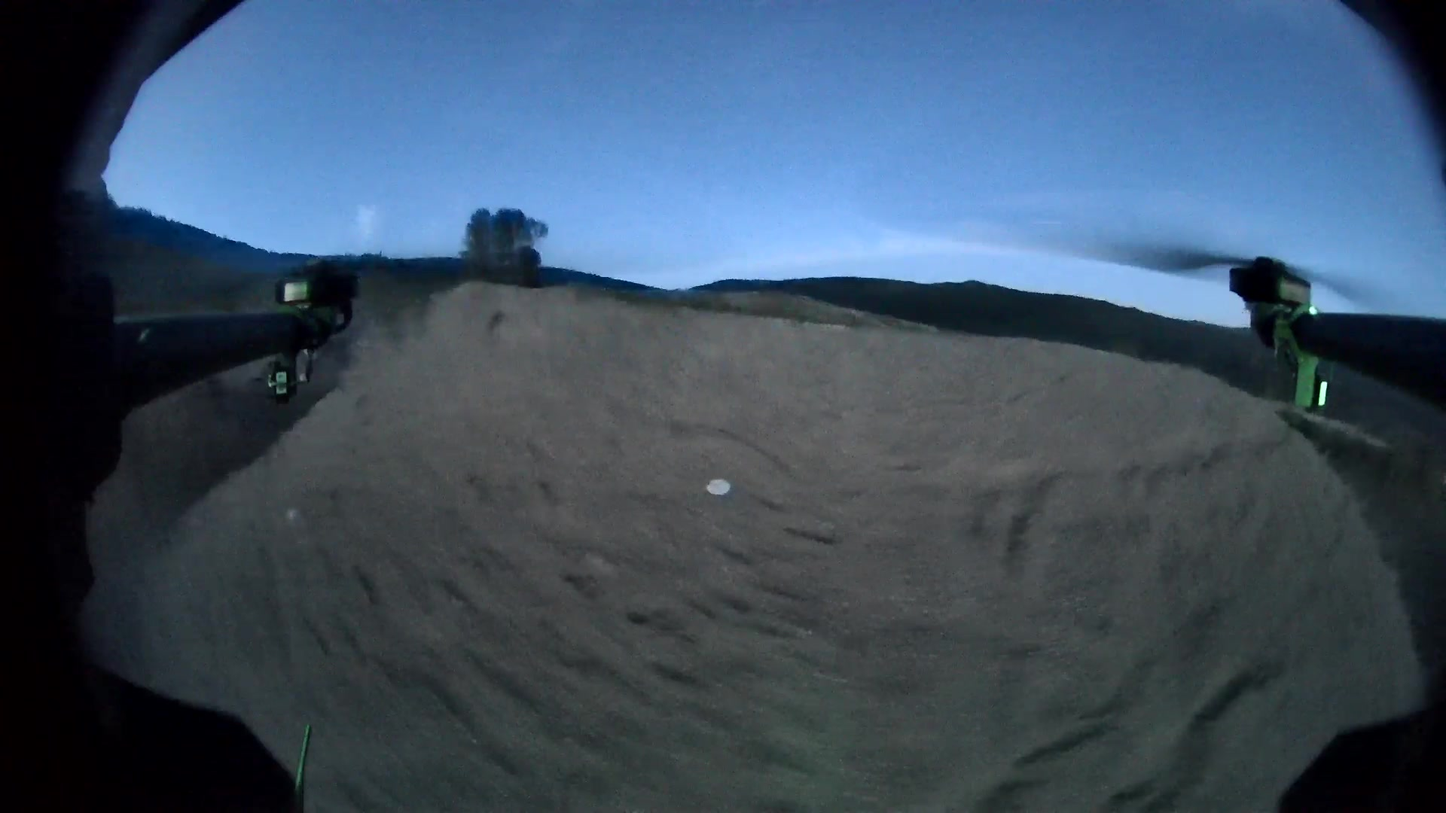Target: (706, 477, 732, 498)
